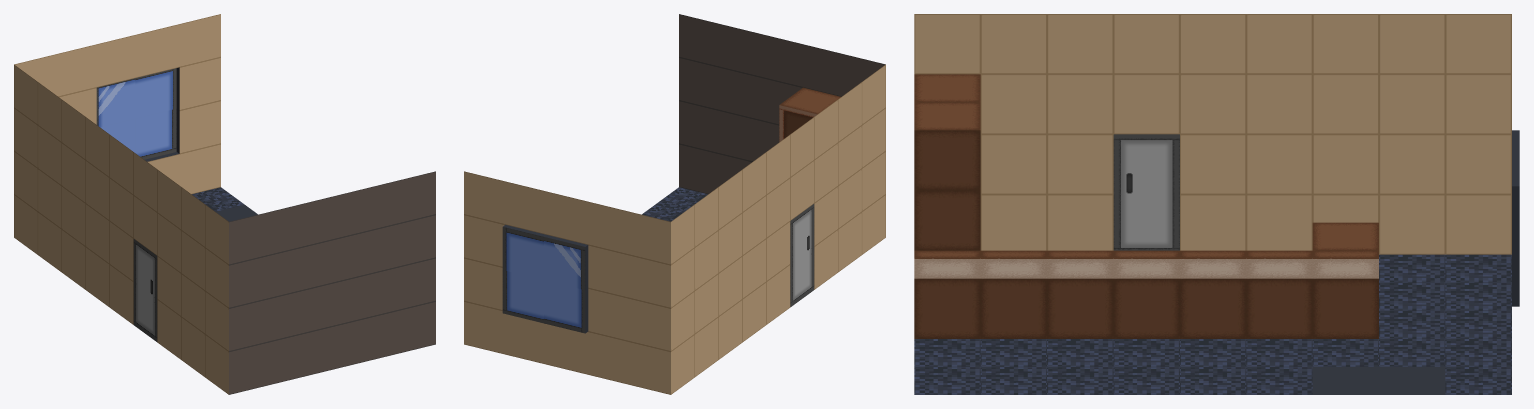
The model's file is postofficeinterior.dae.
3 views of the same model, side by side, from view 1: azimuth 30°, elevation 25°; view 2: azimuth 150°, elevation 25°; view 3: azimuth 270°, elevation 25° (orthographic). The views are drawn at different scales.
Visible parts, largest first — view 1: postoffice-col; view 2: postoffice-col; view 3: postoffice-col.
Boxes of the visible parts, <box> form: postoffice-col: <box>14,14,435,394</box>; postoffice-col: <box>464,14,885,394</box>; postoffice-col: <box>914,14,1519,394</box>.
Bounding box in the file's own units: 9.69 × 17.66 × 9.69.
1 material, 1 textured.
